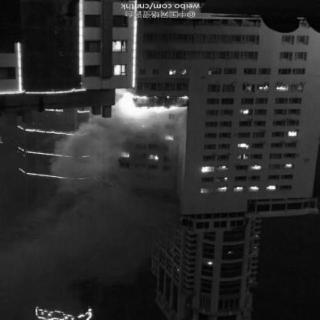Smoke: (30, 131, 147, 303)
